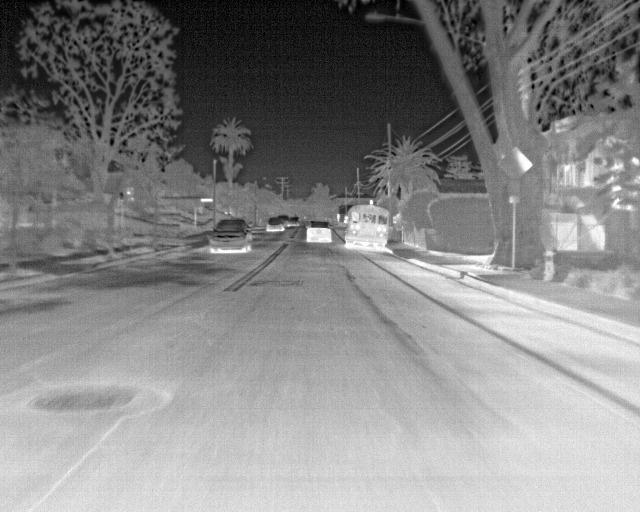car: (206, 217, 252, 252), (305, 220, 331, 242), (264, 216, 283, 231), (276, 212, 288, 227), (286, 214, 299, 227)
